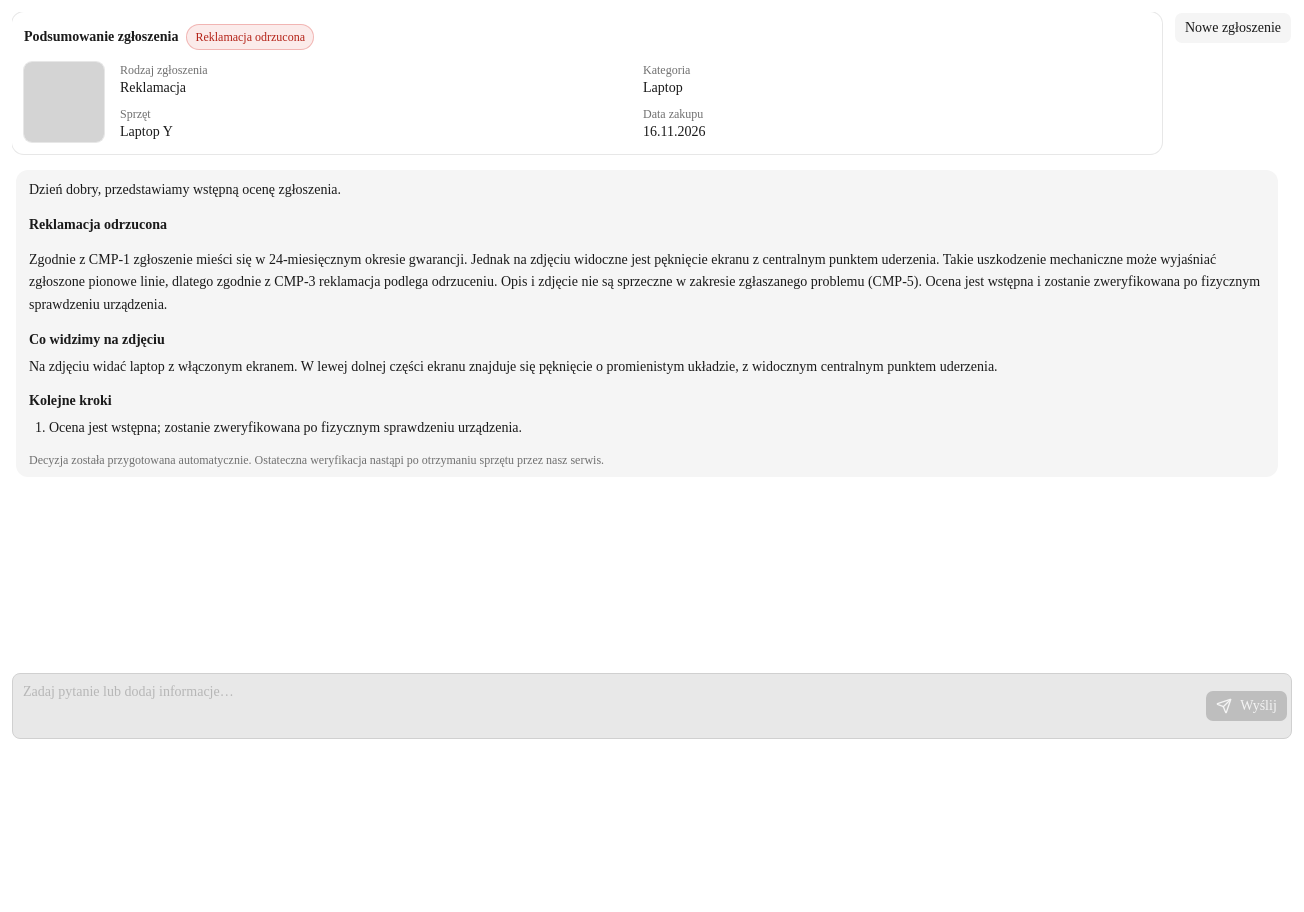
Scenario: ChatScreen with real API captures › shows the chat error with retry and keeps one user message after regenerate (AC-37)
The image size is (1304, 912).
Type "Jaką datę zakupu podałem?" into the text box with placeholder "Zadaj pytanie lub dodaj informacje…". click: (609, 706)
box: left=13, top=674, right=1205, bottom=738
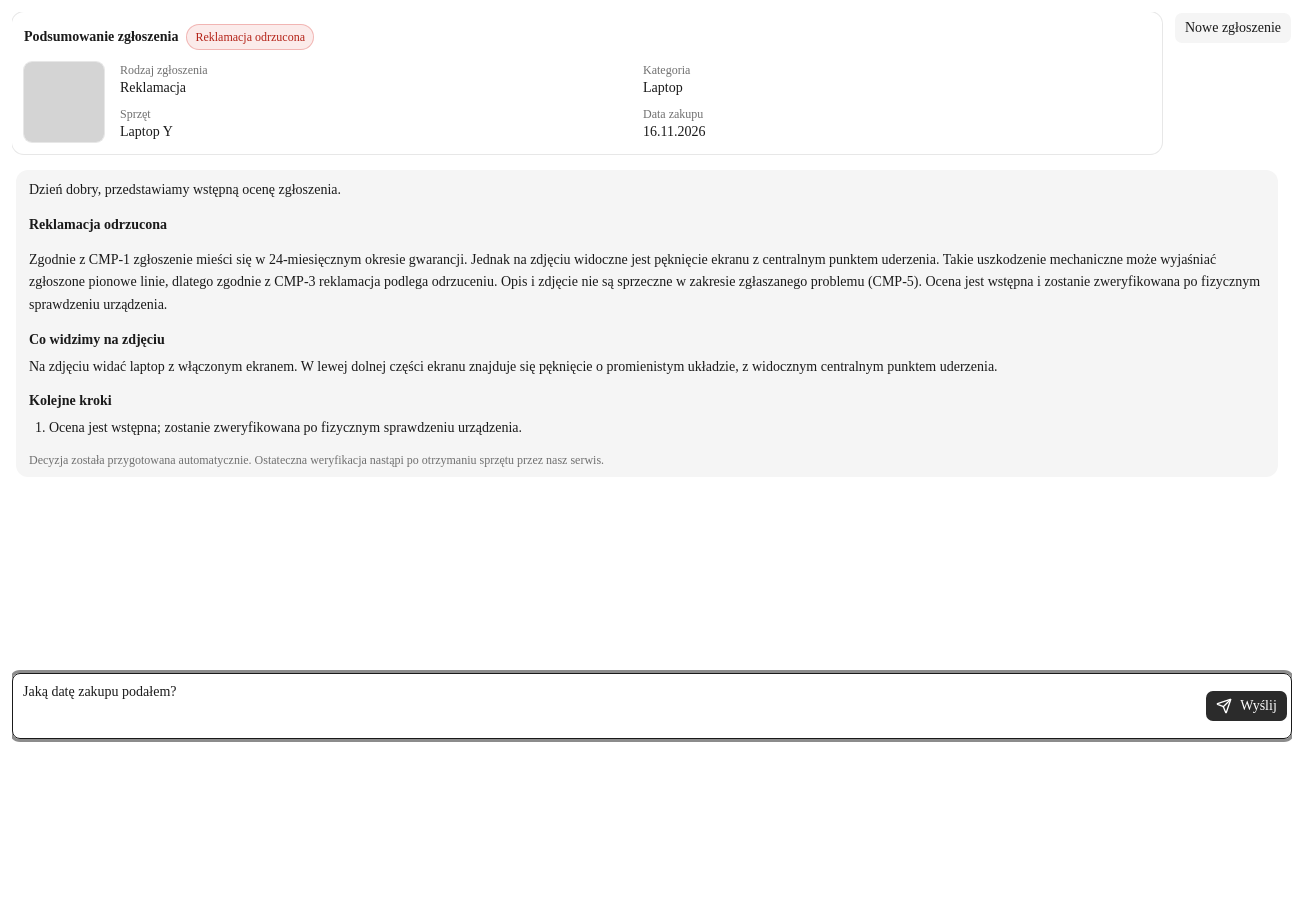
Click the button "Wyślij". click: (1247, 706)
box: left=1205, top=690, right=1288, bottom=722
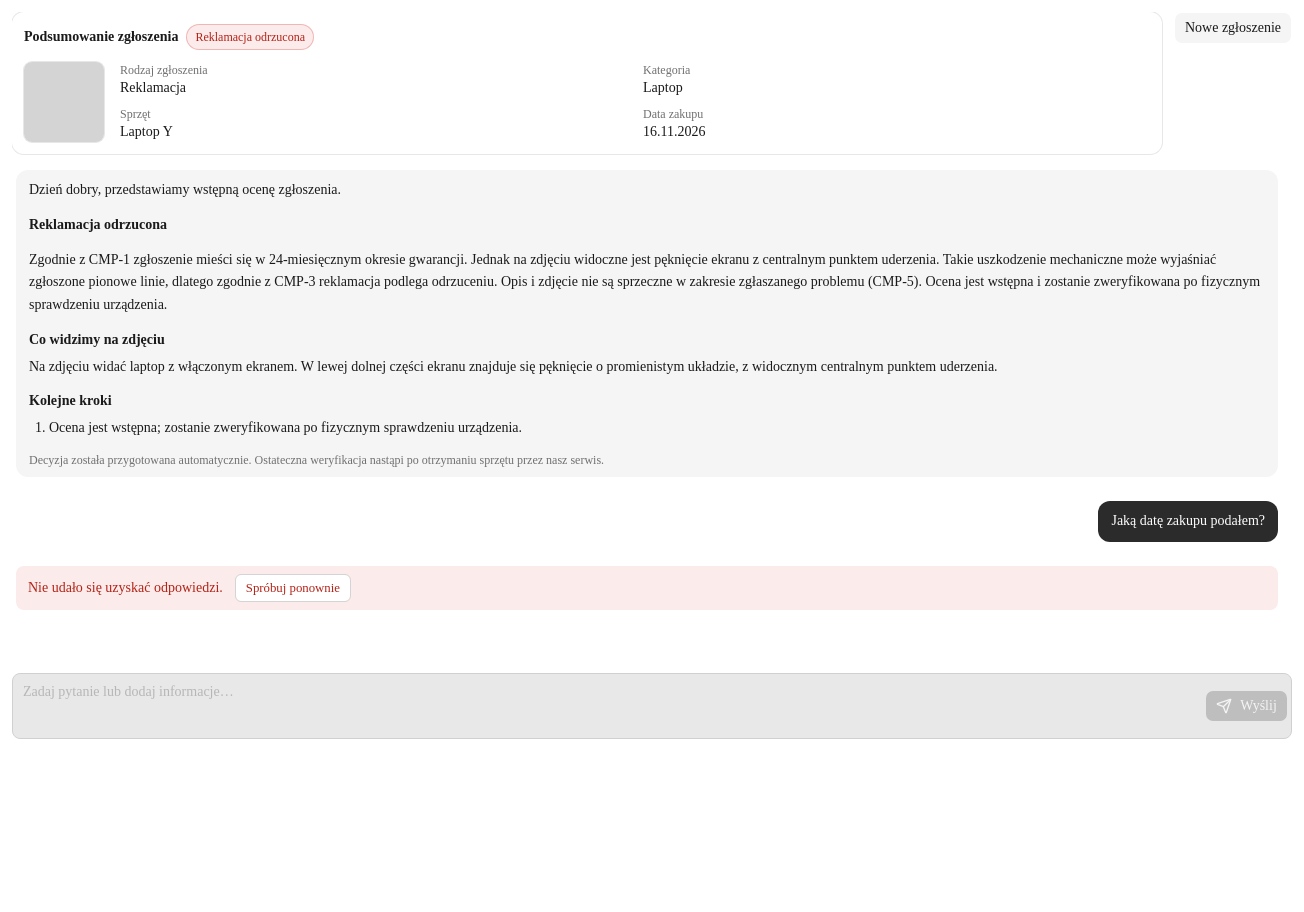
Check: the text "Nie udało się uzyskać odpowiedzi." is shown, box left=28, top=578, right=223, bottom=598
Check: the text "Jaką datę zakupu podałem?" is shown once, box left=1112, top=513, right=1265, bottom=528
Check: the button "Wyślij" is disabled, box left=1205, top=690, right=1288, bottom=722
Click the button "Spróbuj ponownie". click: (293, 588)
box: left=235, top=574, right=351, bottom=602
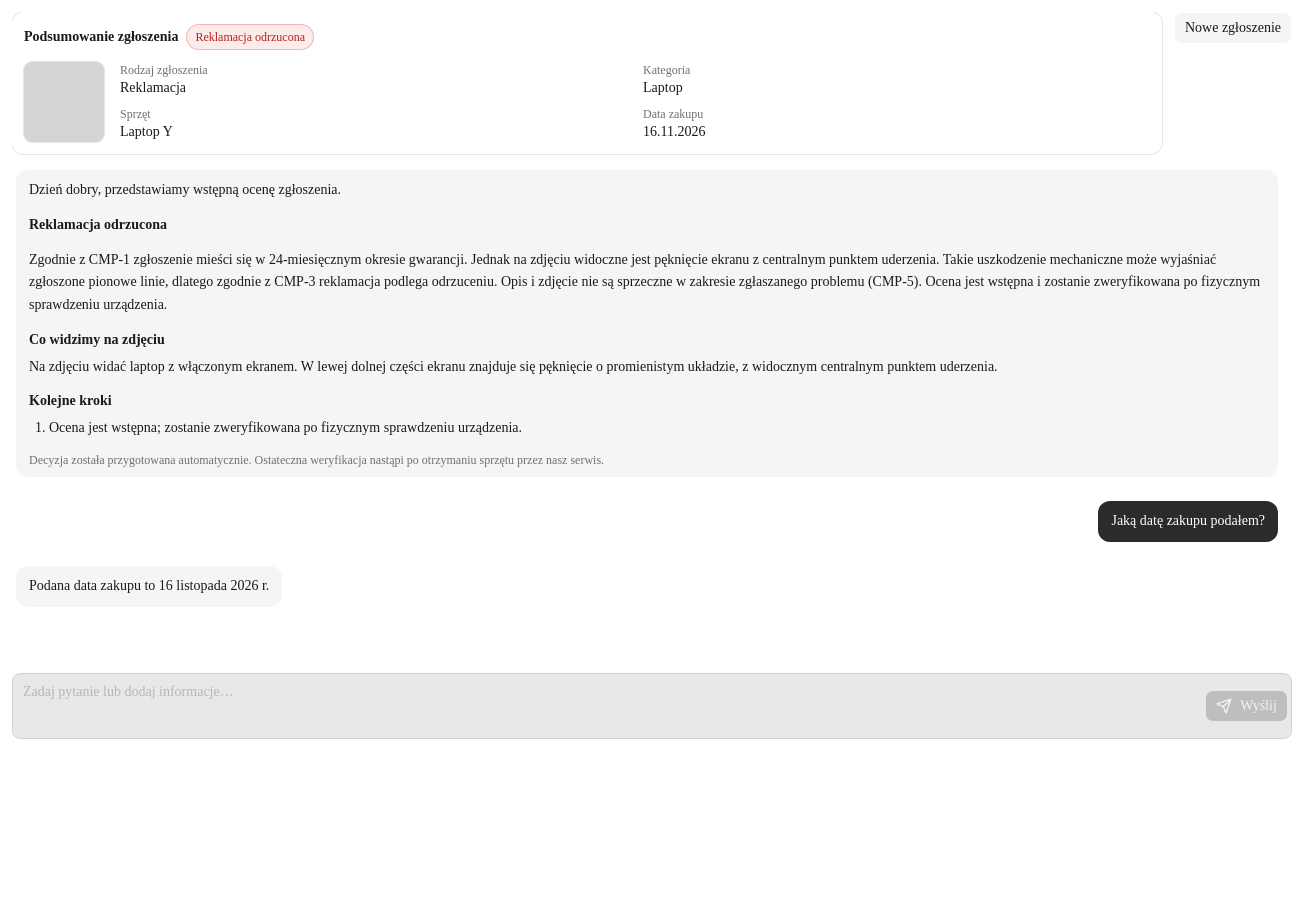
Check: the text "Jaką datę zakupu podałem?" is shown once, box left=1112, top=513, right=1265, bottom=528
Check: the text "Nie udało się uzyskać odpowiedzi." is gone
